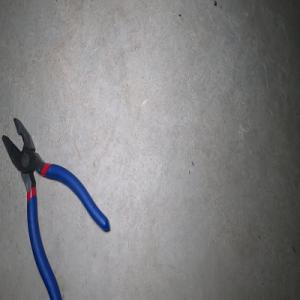Pliers: (1, 117, 109, 300)
